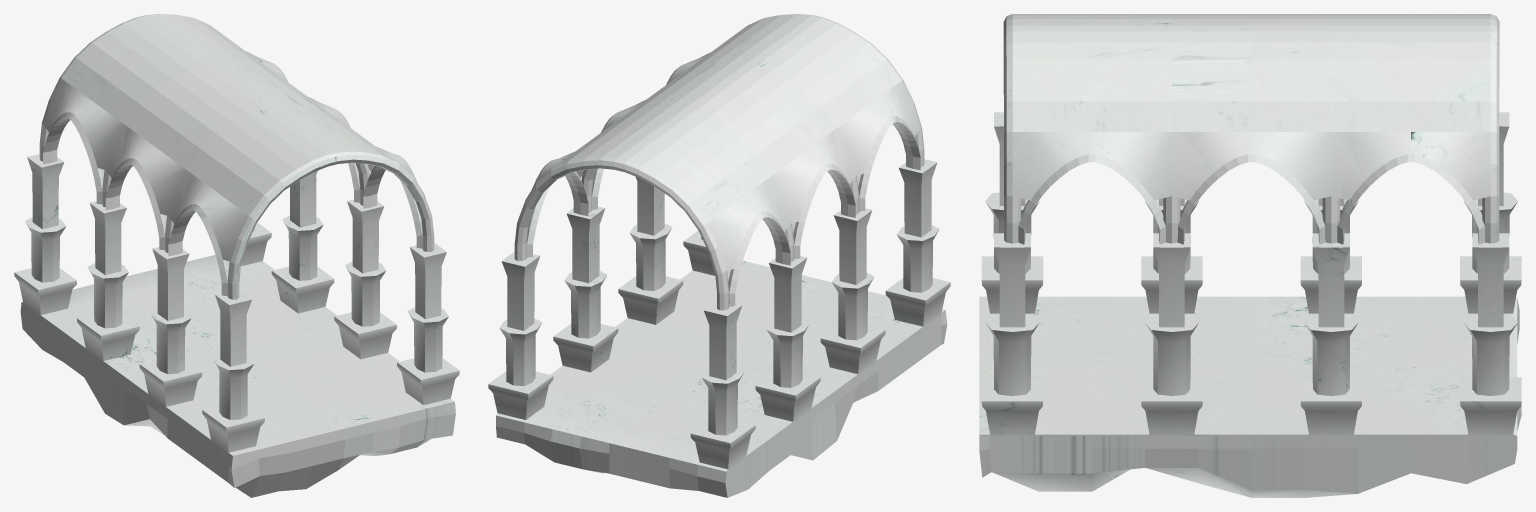
File: leijuvakäytävä.fbx
The picture shows the model from 3 angles, left to right: view 1: azimuth 30°, elevation 25°; view 2: azimuth 150°, elevation 25°; view 3: azimuth 270°, elevation 25°; orthographic projection. The views are drawn at different scales.
Parts seen in each view (by area): view 1: Box003; view 2: Box003; view 3: Box003.
Part boxes in pixels (left/top/right/bottom): Box003: left=14, top=14, right=459, bottom=497; Box003: left=488, top=14, right=950, bottom=497; Box003: left=979, top=14, right=1521, bottom=497.
Bounding box in the file's own units: 3664 × 5205 × 5790.
